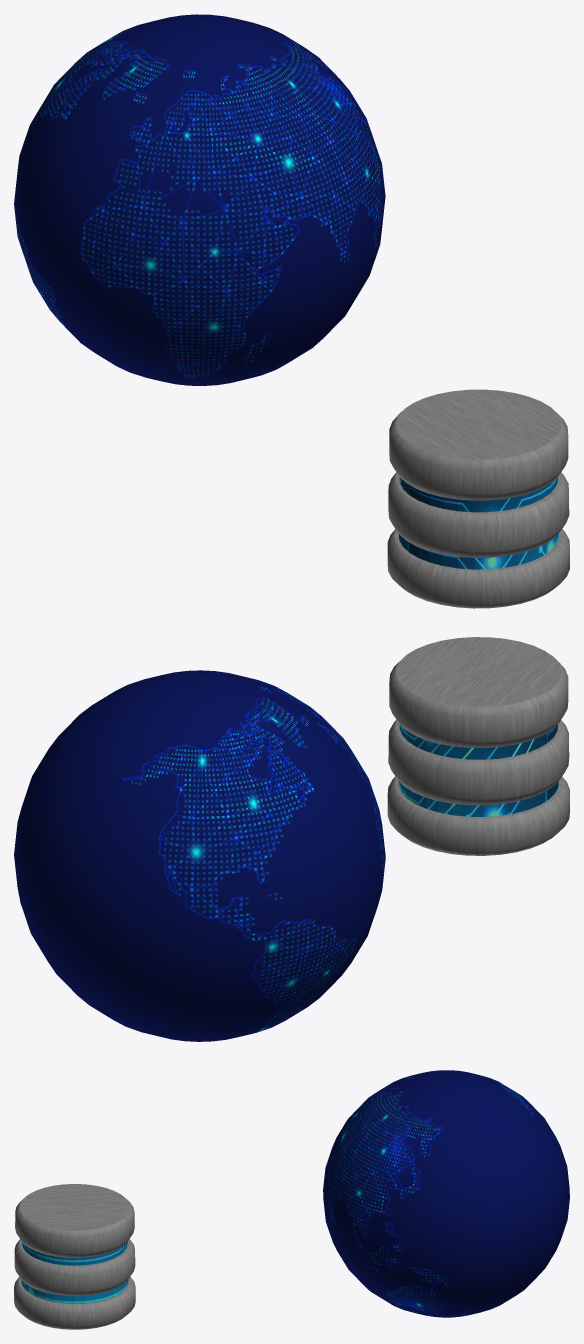
File: escena1.gltf
3 renders of one model, top to bottom at view 1: azimuth 30°, elevation 25°; view 2: azimuth 150°, elevation 25°; view 3: azimuth 270°, elevation 25°, orthographic. The views are drawn at different scales.
Parts seen in each view (by area): view 1: Sphere, Cylinder.000; view 2: Sphere, Cylinder.000; view 3: Sphere, Cylinder.000.
Boxes of the visible parts, x1=… form: Sphere: x1=14, y1=14, x2=385, y2=385; Cylinder.000: x1=387, y1=389, x2=569, y2=608; Sphere: x1=14, y1=670, x2=385, y2=1041; Cylinder.000: x1=387, y1=637, x2=569, y2=855; Sphere: x1=323, y1=1070, x2=569, y2=1317; Cylinder.000: x1=14, y1=1184, x2=135, y2=1329.
Bounding box in the file's own units: 3.99 × 3.98 × 8.98.
5 materials, 3 textured.
